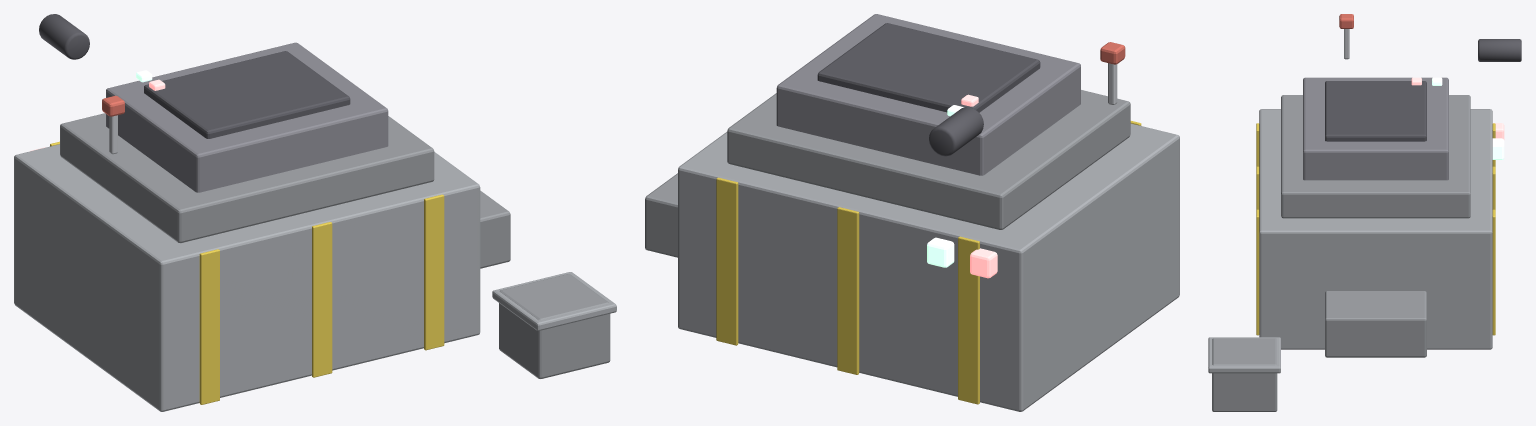
The model's file is измельчитель.glb.
3 views of the same model, side by side, from view 1: azimuth 30°, elevation 25°; view 2: azimuth 150°, elevation 25°; view 3: azimuth 270°, elevation 25° (orthographic). The views are drawn at different scales.
Parts seen in each view (by area): view 1: измельчитель; view 2: измельчитель; view 3: измельчитель.
Part boxes in pixels (left/top/right/bottom): измельчитель: left=14, top=14, right=616, bottom=411; измельчитель: left=645, top=14, right=1179, bottom=411; измельчитель: left=1208, top=14, right=1521, bottom=411.
Bounding box in the file's own units: 2.65 × 1.8 × 2.15.
